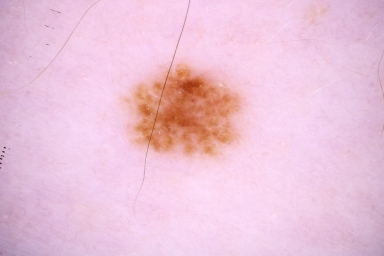nevus: (131, 65, 234, 153)
